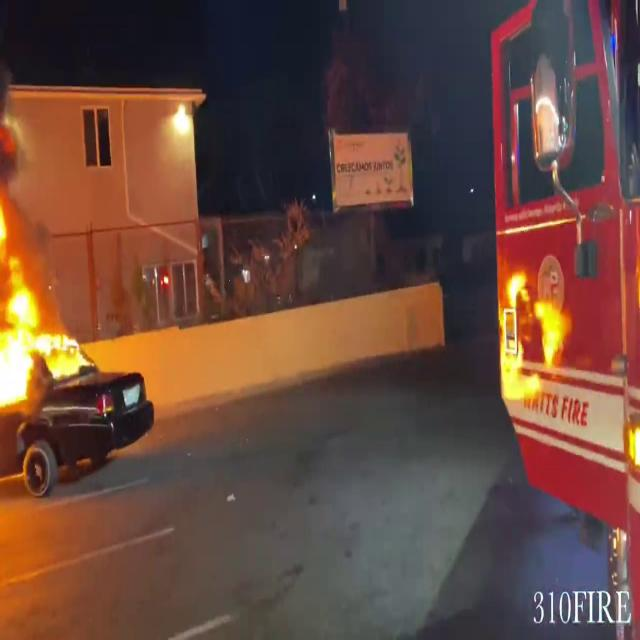Fire: (0, 173, 89, 414)
